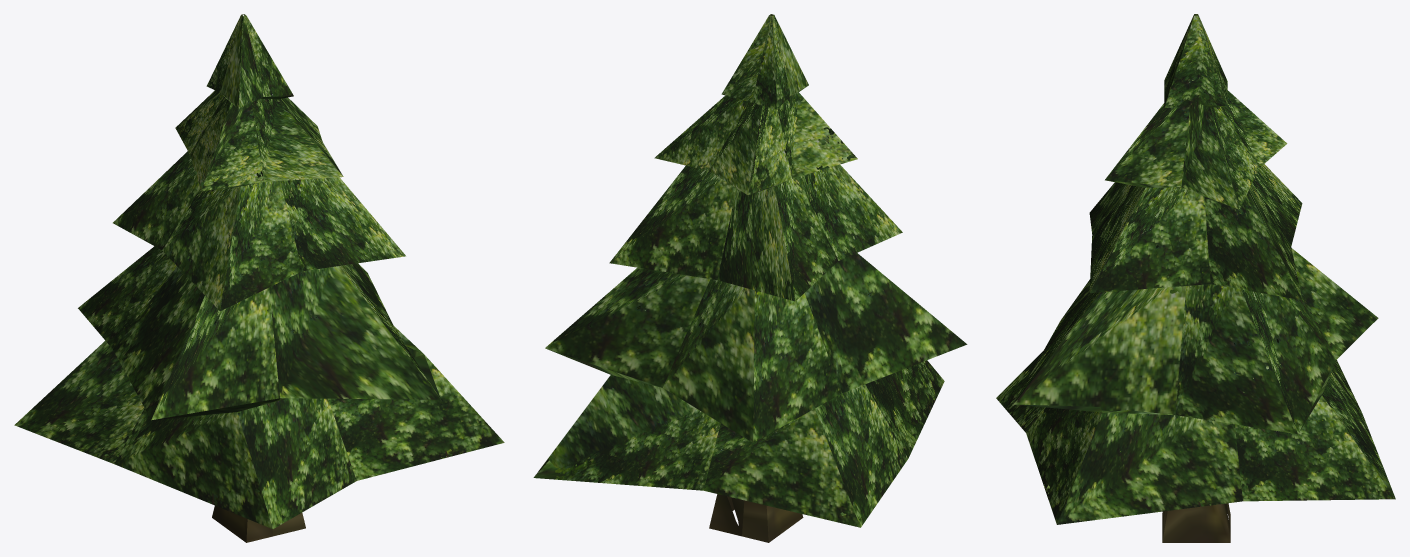
Rendered from tree-low-poly.fbx.
3 renders of one model, left to right at view 1: azimuth 30°, elevation 25°; view 2: azimuth 150°, elevation 25°; view 3: azimuth 270°, elevation 25°, orthographic.
Visible parts, largest first — view 1: Cube; view 2: Cube; view 3: Cube.
Part boxes in pixels (left/top/right/bottom): Cube: left=14, top=14, right=504, bottom=542; Cube: left=533, top=14, right=967, bottom=542; Cube: left=996, top=14, right=1395, bottom=542.
Size of the model in its own units: 217 by 303 by 217.
